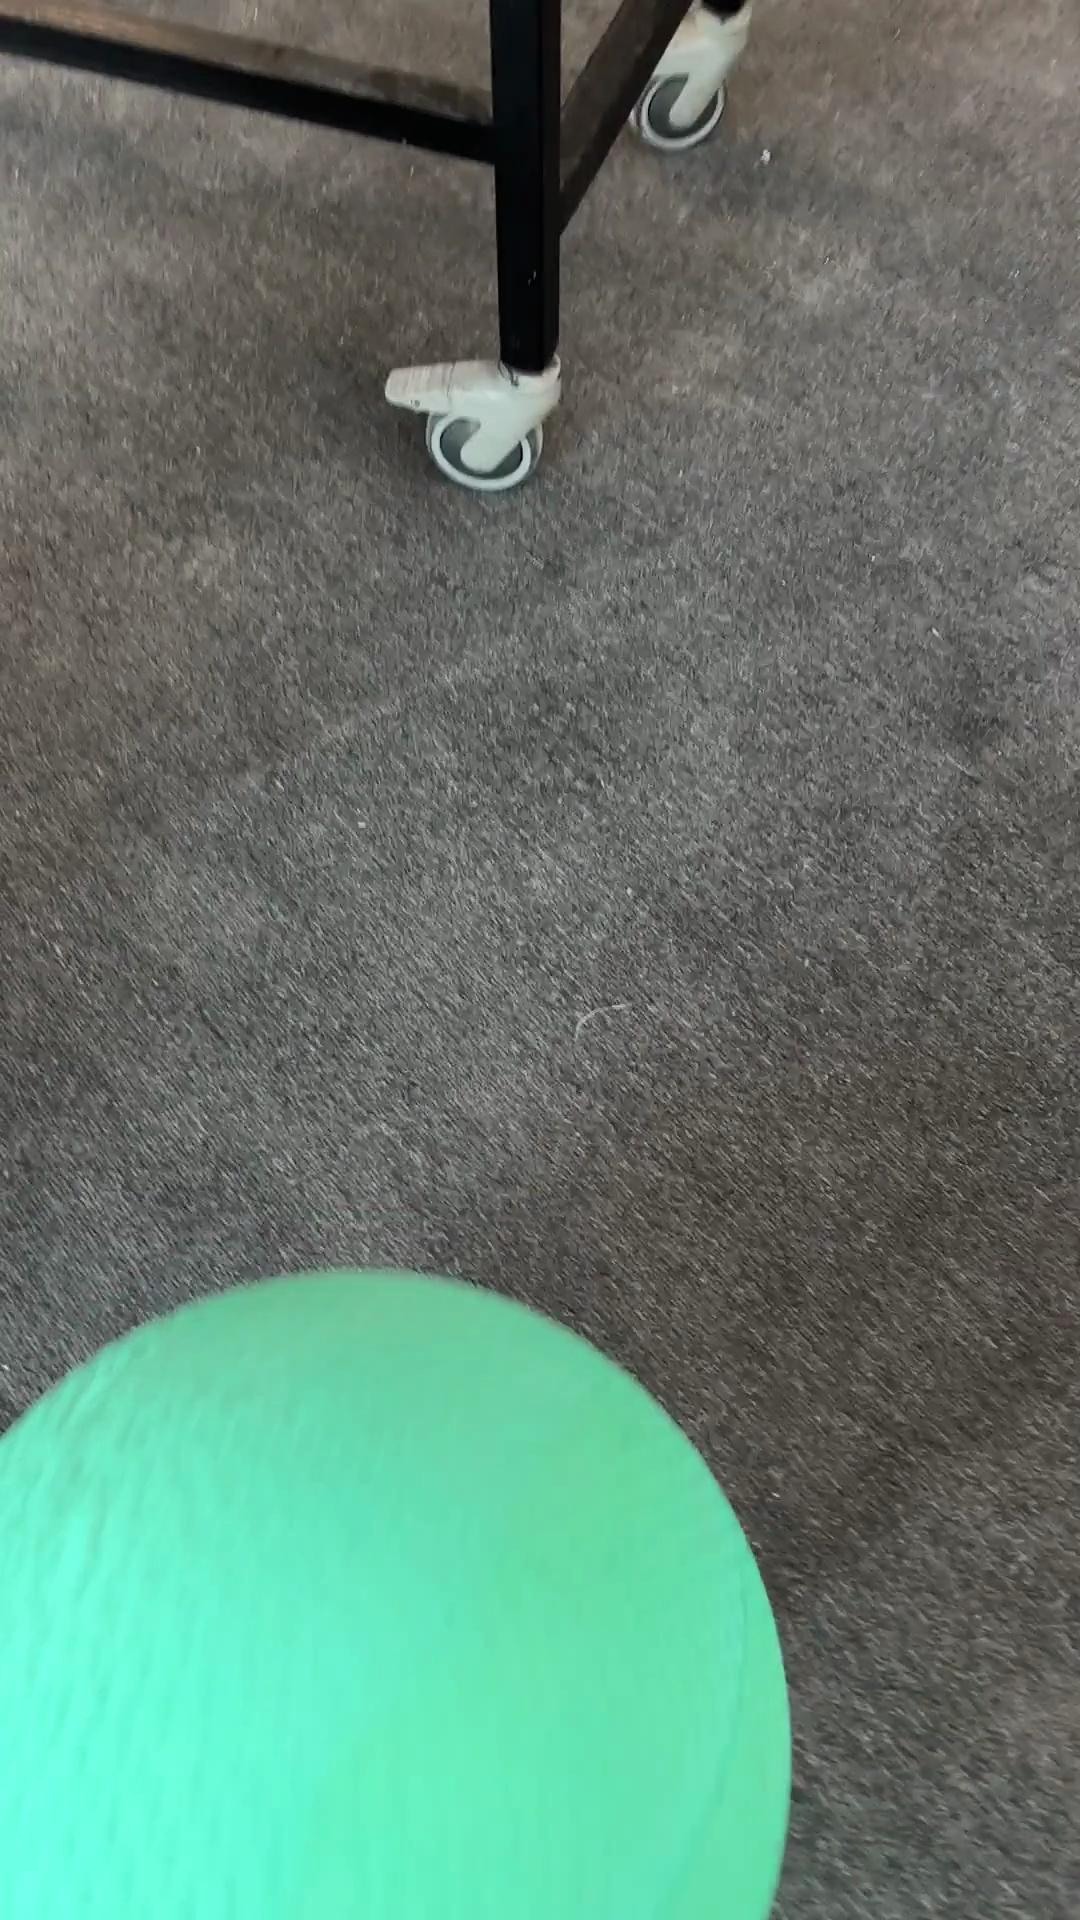ALGAE: (1, 1263, 794, 1916)
